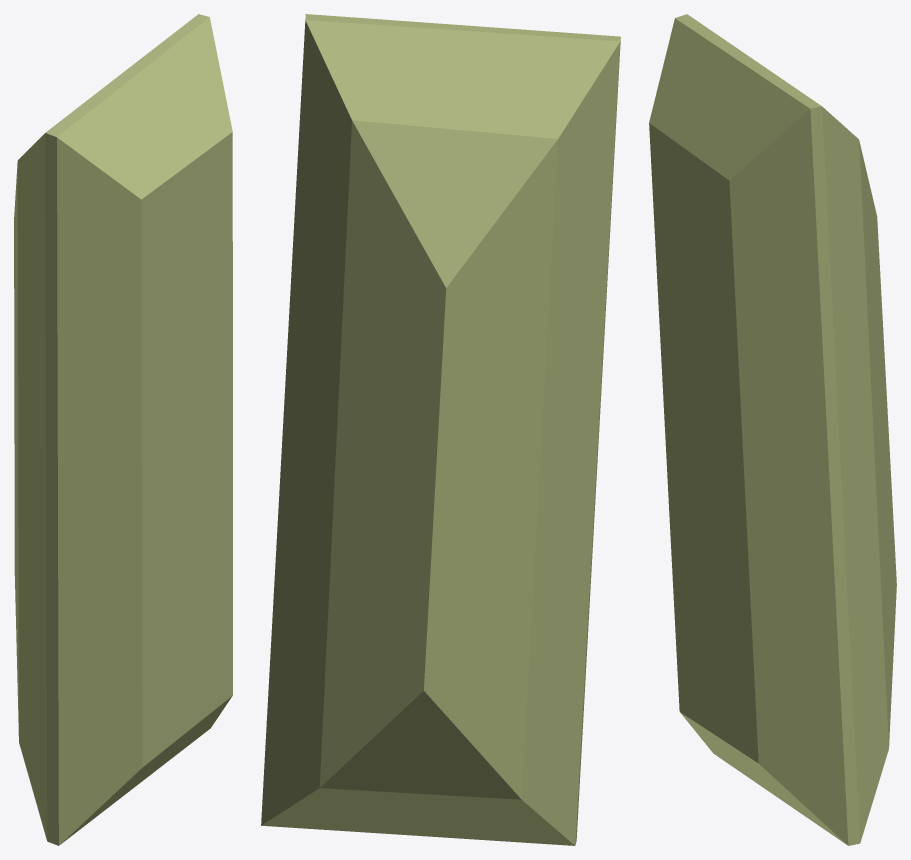
Rendered from TR2_Spacers_BaguetteStone.001 2.glb.
3 views of the same model, side by side, from view 1: azimuth 30°, elevation 25°; view 2: azimuth 150°, elevation 25°; view 3: azimuth 270°, elevation 25° (orthographic). The views are drawn at different scales.
Parts seen in each view (by area): view 1: TR2_Spacers_BaguetteStone.001; view 2: TR2_Spacers_BaguetteStone.001; view 3: TR2_Spacers_BaguetteStone.001.
Part boxes in pixels (x1=…): TR2_Spacers_BaguetteStone.001: x1=14, y1=14, x2=232, y2=845; TR2_Spacers_BaguetteStone.001: x1=261, y1=14, x2=620, y2=845; TR2_Spacers_BaguetteStone.001: x1=649, y1=14, x2=896, y2=845.
Bounding box in the file's own units: 0.1861 × 0.5374 × 0.1627.
